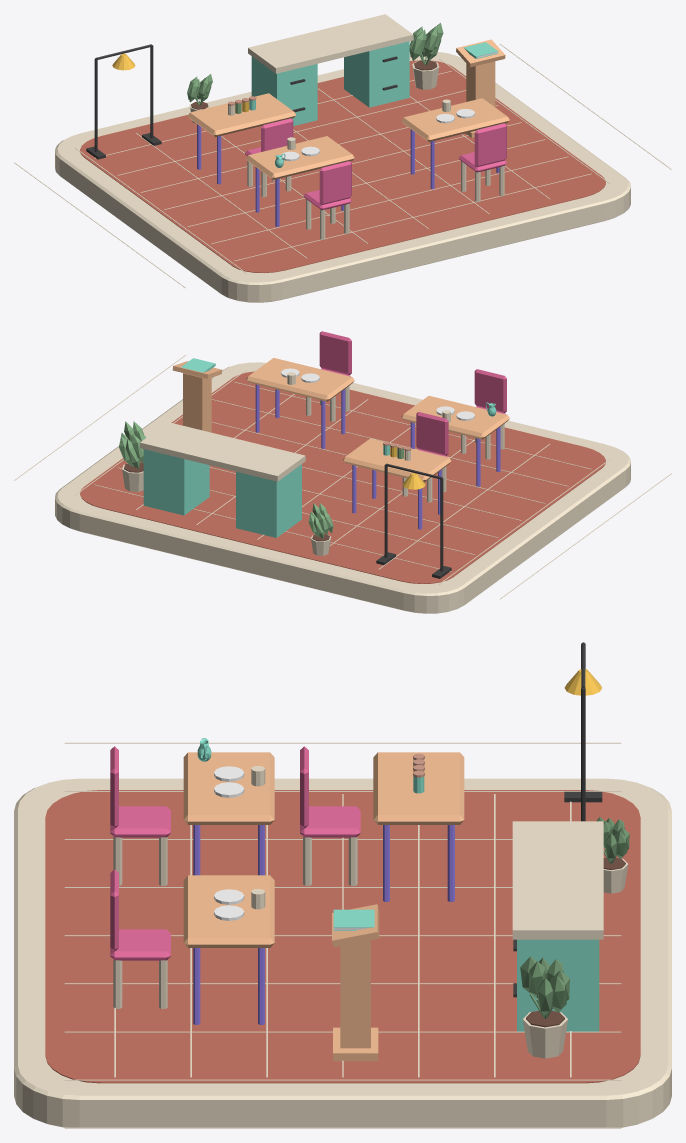
File: room.fbx
3 renders of one model, top to bottom at view 1: azimuth 30°, elevation 25°; view 2: azimuth 150°, elevation 25°; view 3: azimuth 270°, elevation 25°, orthographic. The views are drawn at different scales.
Parts seen in each view (by area): view 1: COM-02 Floor Surface, COM-01 Rounded Base Direct, Worktop, Storage module.001, Storage module, Rounded table top.001, Rounded table top.002, Rounded table top, Pot, Backrest, Backrest.001, Body (+4 smaller); view 2: COM-02 Floor Surface, COM-01 Rounded Base Direct, Worktop, Storage module, Storage module.001, Rounded table top.001, Rounded table top.002, Rounded table top, Body, Pot, Backrest.002, Backrest.001 (+2 smaller); view 3: COM-02 Floor Surface, COM-01 Rounded Base Direct, Worktop, Rounded table top.002, Rounded table top.001, Rounded table top, Storage module.001, Pot, Body, Pot.001, Seat, Seat.001 (+12 smaller).
Boxes of the visible parts, x1,y1,x2,y2 form: COM-02 Floor Surface: [80, 60, 605, 272]; COM-01 Rounded Base Direct: [55, 52, 630, 302]; Worktop: [248, 14, 413, 73]; Storage module.001: [344, 41, 409, 107]; Storage module: [251, 56, 317, 125]; Rounded table top.001: [401, 98, 509, 141]; Rounded table top.002: [188, 93, 296, 137]; Rounded table top: [246, 136, 354, 179]; Pot: [409, 22, 443, 89]; Backrest: [319, 161, 351, 204]; Backrest.001: [474, 123, 506, 167]; Body: [466, 61, 495, 106]; COM-02 Floor Surface: [80, 371, 605, 583]; COM-01 Rounded Base Direct: [55, 362, 630, 613]; Worktop: [140, 422, 305, 481]; Storage module: [236, 464, 301, 537]; Storage module.001: [143, 449, 209, 515]; Rounded table top.001: [246, 358, 354, 401]; Rounded table top.002: [343, 438, 451, 482]; Rounded table top: [401, 395, 509, 439]; Body: [183, 373, 211, 432]; Pot: [119, 421, 146, 491]; Backrest.002: [416, 412, 448, 455]; Backrest.001: [319, 331, 351, 374]; COM-02 Floor Surface: [45, 790, 640, 1083]; COM-01 Rounded Base Direct: [14, 778, 671, 1127]; Worktop: [512, 821, 603, 939]; Rounded table top.002: [373, 752, 464, 824]; Rounded table top.001: [183, 875, 274, 947]; Rounded table top: [183, 752, 274, 824]; Storage module.001: [517, 939, 599, 1031]; Pot: [520, 956, 569, 1058]; Body: [340, 940, 370, 1048]; Pot.001: [596, 817, 629, 893]; Seat: [110, 806, 170, 837]; Seat.001: [110, 929, 170, 960].
Bounding box in the file's own units: 721 × 166 × 520.
